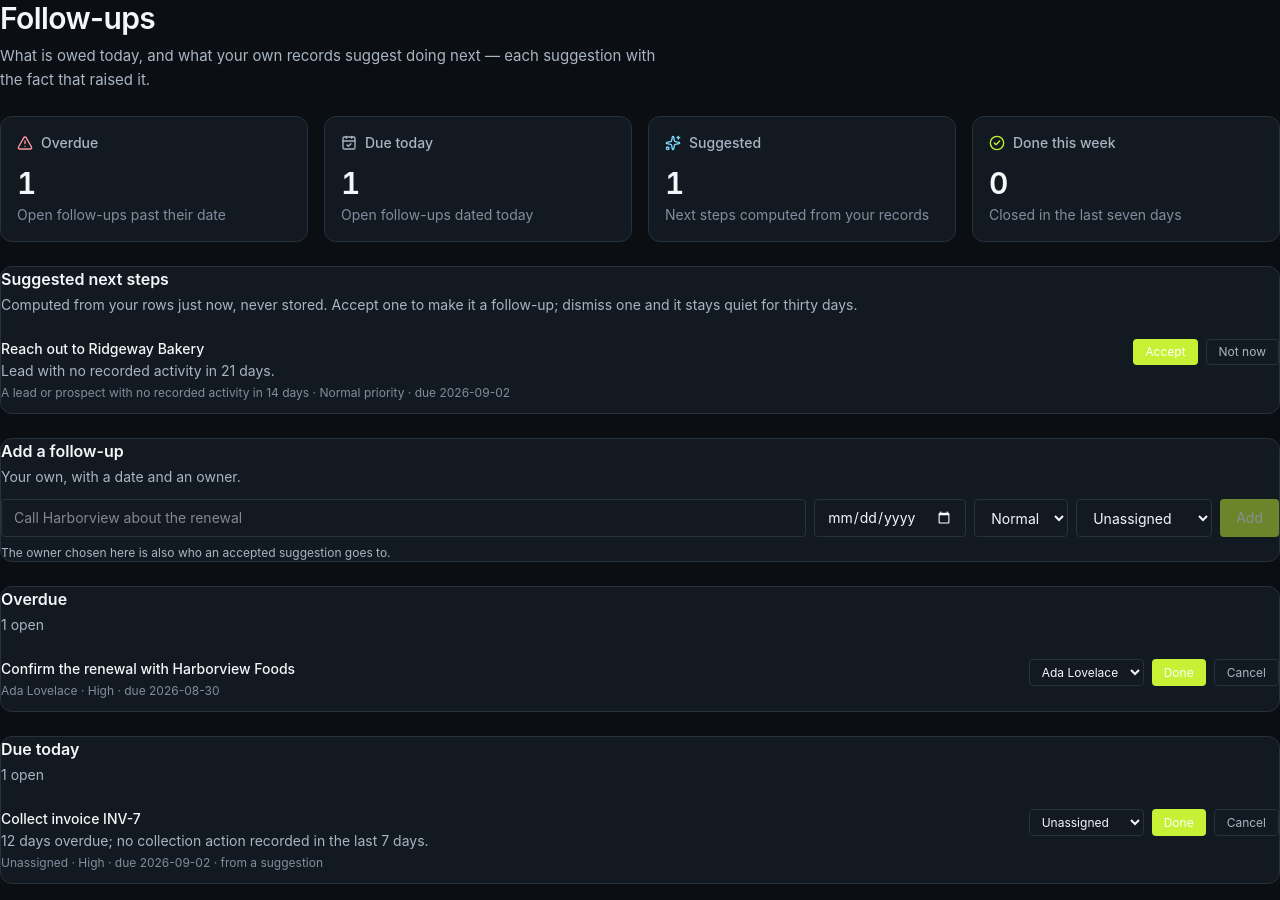
Test: ServicesFollowupsPanel › surfaces a refused acceptance in the server's own words
Expected: the text "Reach out to Ridgeway Bakery" is shown, [1,340,204,357]
Click the button "Accept" at (1165, 352), box [1133,339,1198,365]
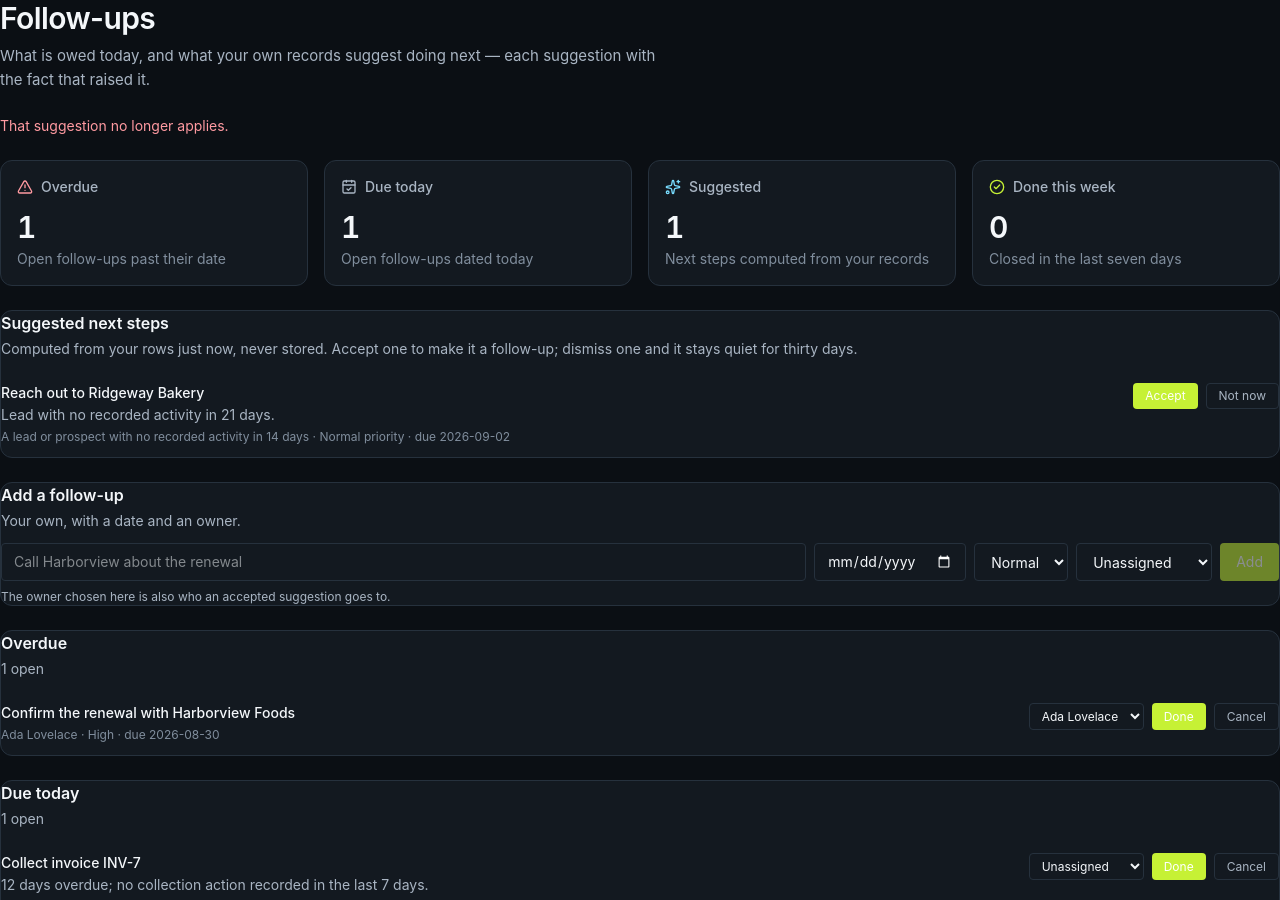
Expected: the message reads "That suggestion no longer applies.", [0,117,229,134]
